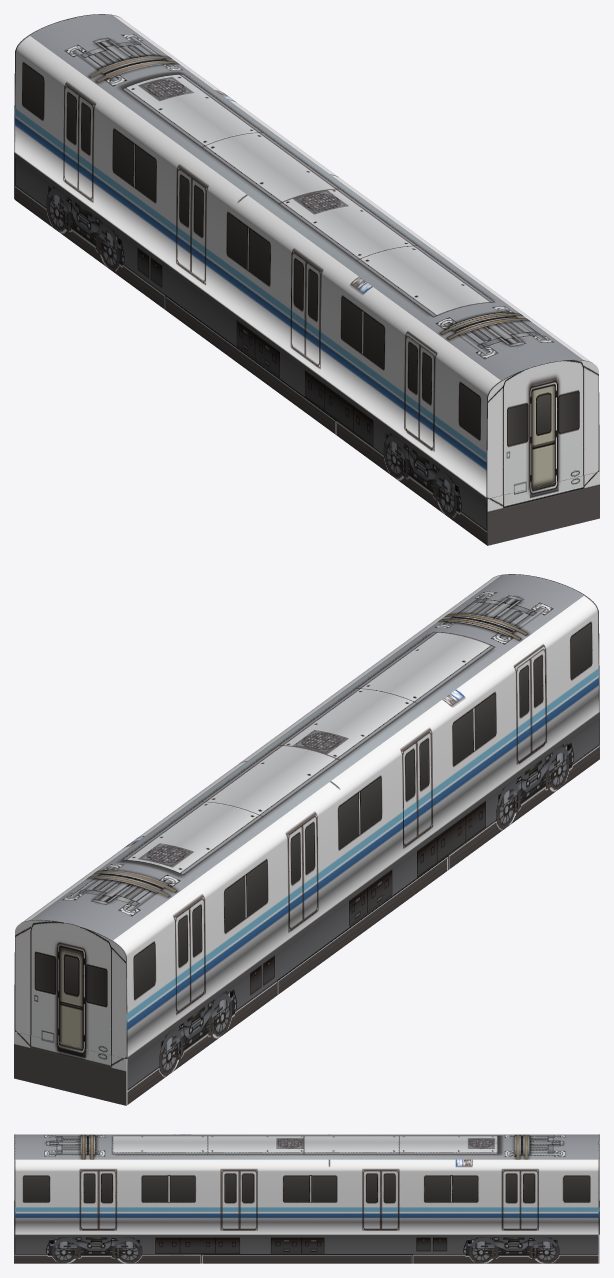
File: car3.glb
The picture shows the model from 3 angles, top to bottom: view 1: azimuth 30°, elevation 25°; view 2: azimuth 150°, elevation 25°; view 3: azimuth 270°, elevation 25°; orthographic projection. The views are drawn at different scales.
Visible parts, largest first — view 1: senboku-7020-car3; view 2: senboku-7020-car3; view 3: senboku-7020-car3.
Boxes of the visible parts, <box> form: senboku-7020-car3: <box>14,14,599,545</box>; senboku-7020-car3: <box>14,574,599,1105</box>; senboku-7020-car3: <box>14,1134,599,1263</box>.
Bounding box in the file's own units: 2.84 × 4.05 × 20.75.
9 materials, 8 textured.
